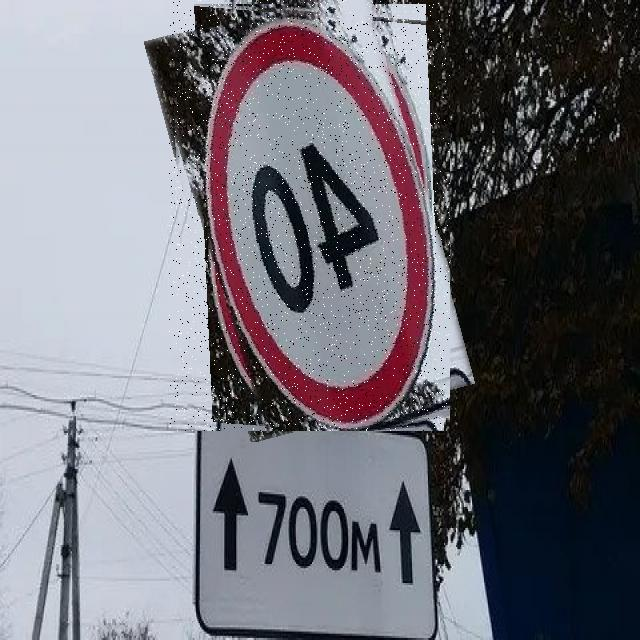speed limit 40: (169, 0, 450, 431)
